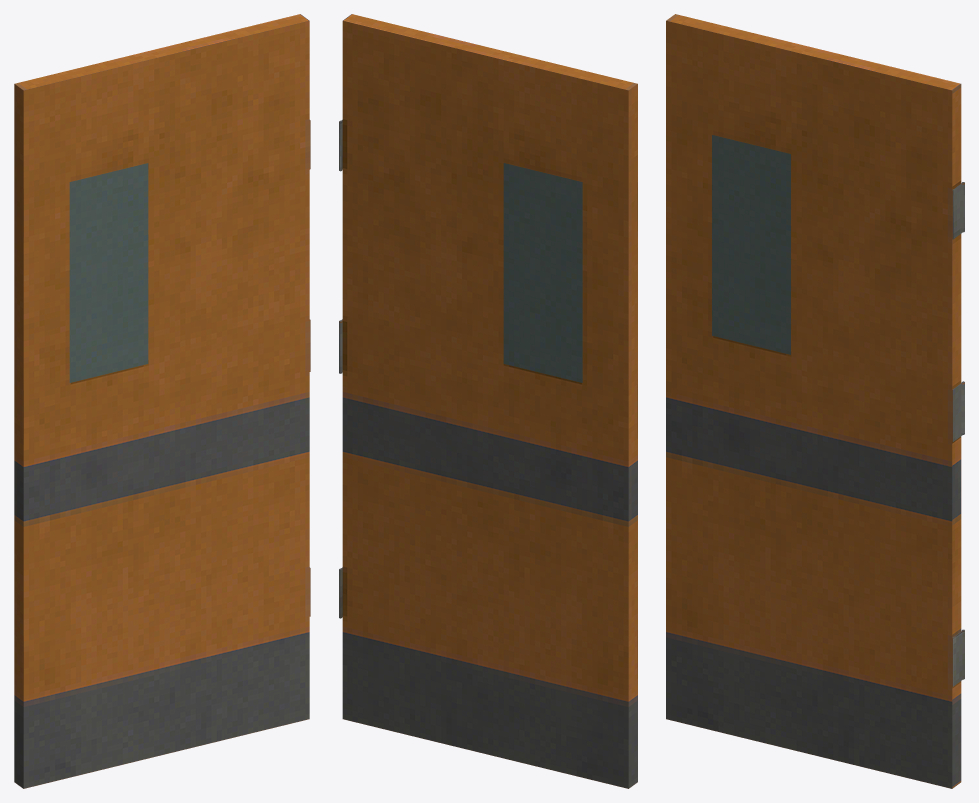
File: SM_DoubleDoor_DL.fbx
3 views of the same model, side by side, from view 1: azimuth 30°, elevation 25°; view 2: azimuth 150°, elevation 25°; view 3: azimuth 330°, elevation 25° (orthographic).
Visible parts, largest first — view 1: SM_DoubleDoor_DL; view 2: SM_DoubleDoor_DL; view 3: SM_DoubleDoor_DL.
Part boxes in pixels (x1=…): SM_DoubleDoor_DL: x1=14, y1=14, x2=310, y2=788; SM_DoubleDoor_DL: x1=339, y1=14, x2=637, y2=788; SM_DoubleDoor_DL: x1=666, y1=14, x2=964, y2=788.
Size of the model in its own units: 90.52 by 210 by 6.27.
